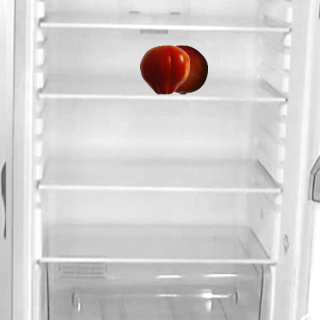Apple Braeburn: (157, 44, 207, 94)
Tomato 1: (139, 44, 189, 94)
